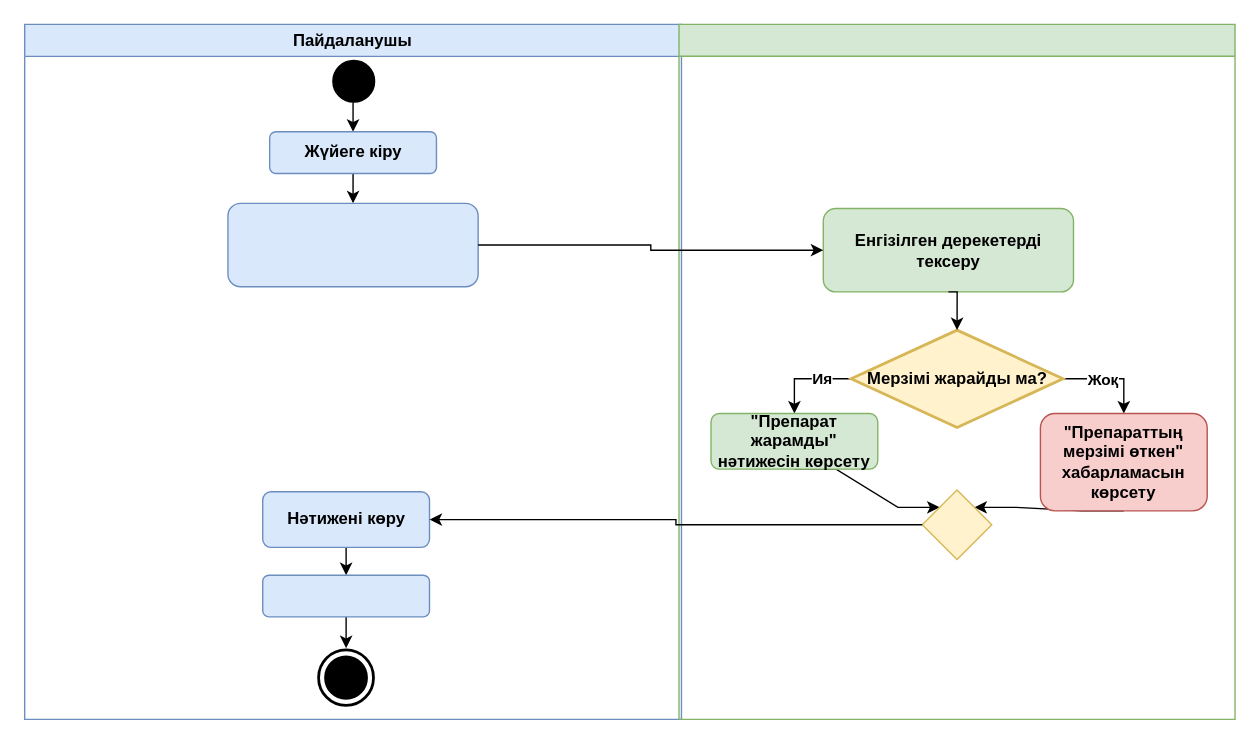
The diagram is 1259 pixels wide and 745 high, and some of its shapes have lost their labels. The shapes that lost their labels are listed below. From the top down, each one's box as (x1, y1, x2, y2) in pixels, then its label:
(227, 202, 478, 287): Препарат туралы ақпаратты енгізу (аты,партиясы,мерзімі)
(678, 23, 1235, 719): Жүйе
(261, 574, 430, 617): Жүйеден шығу
